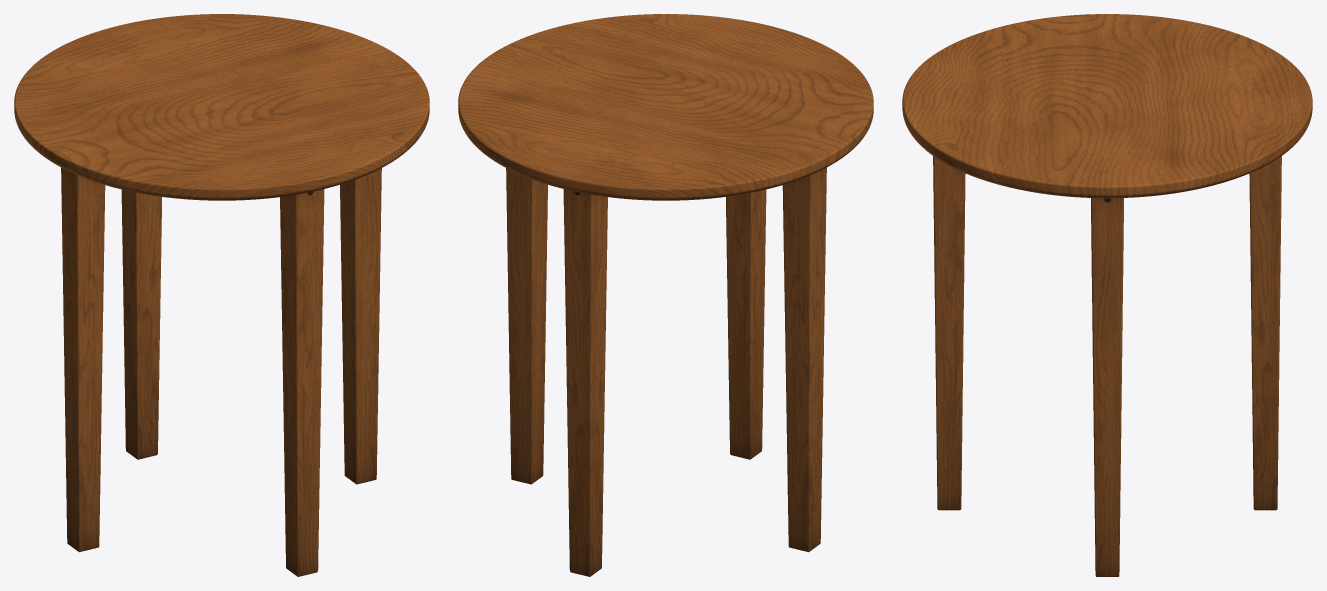
Rendered from mesinha-madeira.glb.
3 renders of one model, left to right at view 1: azimuth 30°, elevation 25°; view 2: azimuth 150°, elevation 25°; view 3: azimuth 270°, elevation 25°, orthographic.
Parts seen in each view (by area): view 1: Tampo, Perna 1, Perna 4, Perna 2, Perna 3; view 2: Tampo, Perna 3, Perna 4, Perna 2, Perna 1; view 3: Tampo, Perna 2, Perna 3, Perna 1.
Boxes of the visible parts, box(x1,y1,x2,y2) form: Tampo: box(14, 14, 429, 200); Perna 1: box(280, 189, 324, 576); Perna 4: box(61, 167, 105, 552); Perna 2: box(340, 168, 381, 484); Perna 3: box(121, 189, 162, 459); Tampo: box(458, 14, 873, 200); Perna 3: box(563, 189, 607, 576); Perna 4: box(782, 167, 826, 552); Perna 2: box(506, 168, 547, 484); Perna 1: box(726, 189, 766, 459); Tampo: box(902, 14, 1312, 198); Perna 2: box(1091, 198, 1123, 576); Perna 3: box(1249, 156, 1281, 510); Perna 1: box(933, 156, 965, 510).
Size of the model in its own units: 0.55 by 0.6 by 0.55.
Materials: 4 (2 with a texture image).
